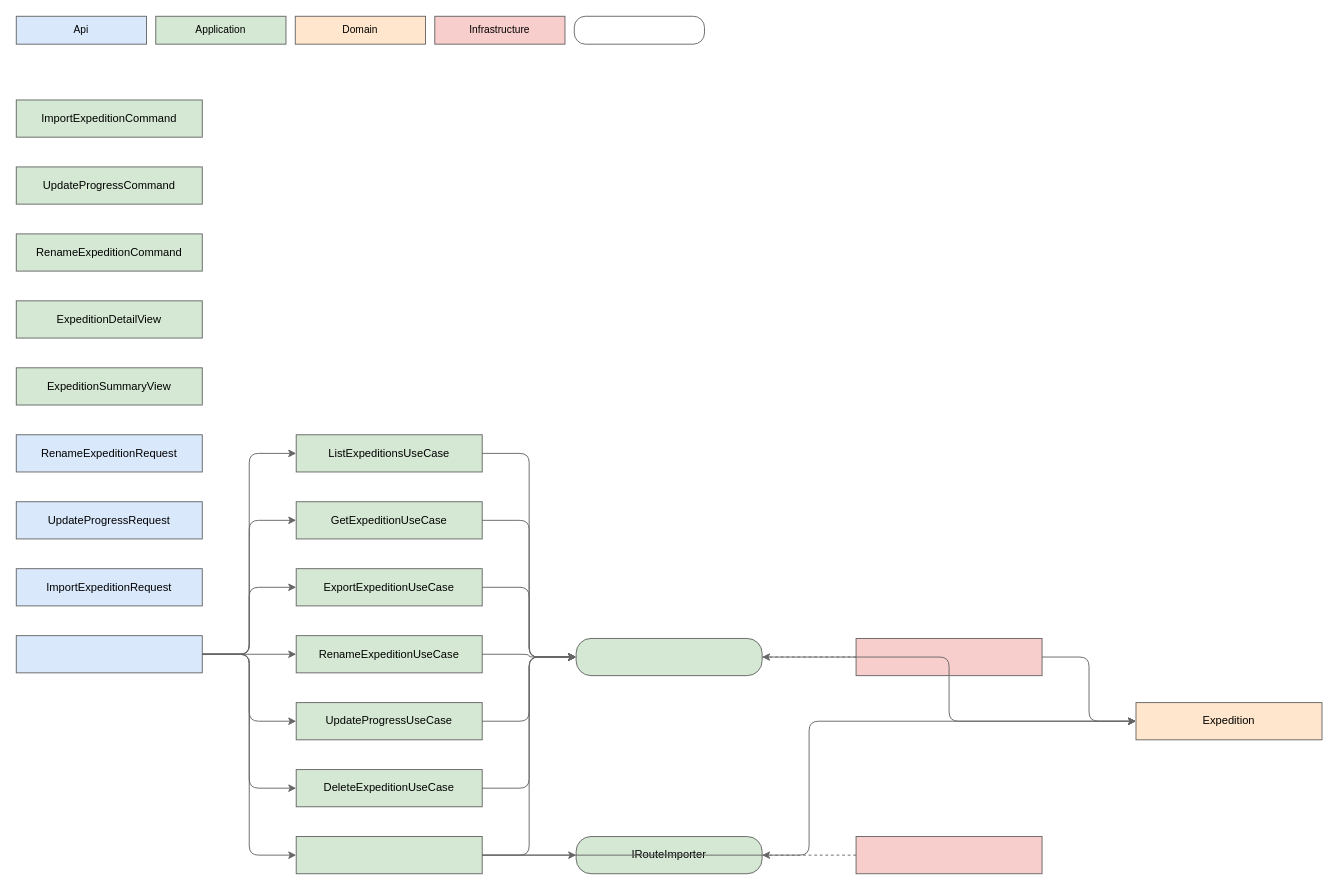
Some shapes in this 1338 by 890 pixel diagram are drawn without their labels. Each missing label, with the box of its shape:
ExpeditionsController: (15, 635, 202, 673)
IExpeditionRepository: (575, 638, 762, 676)
ImportExpeditionUseCase: (295, 836, 482, 874)
Port (interface): (573, 15, 704, 44)
PostgresExpeditionRepository: (855, 638, 1042, 676)
SpanshJsonRouteImporter: (855, 836, 1042, 874)
